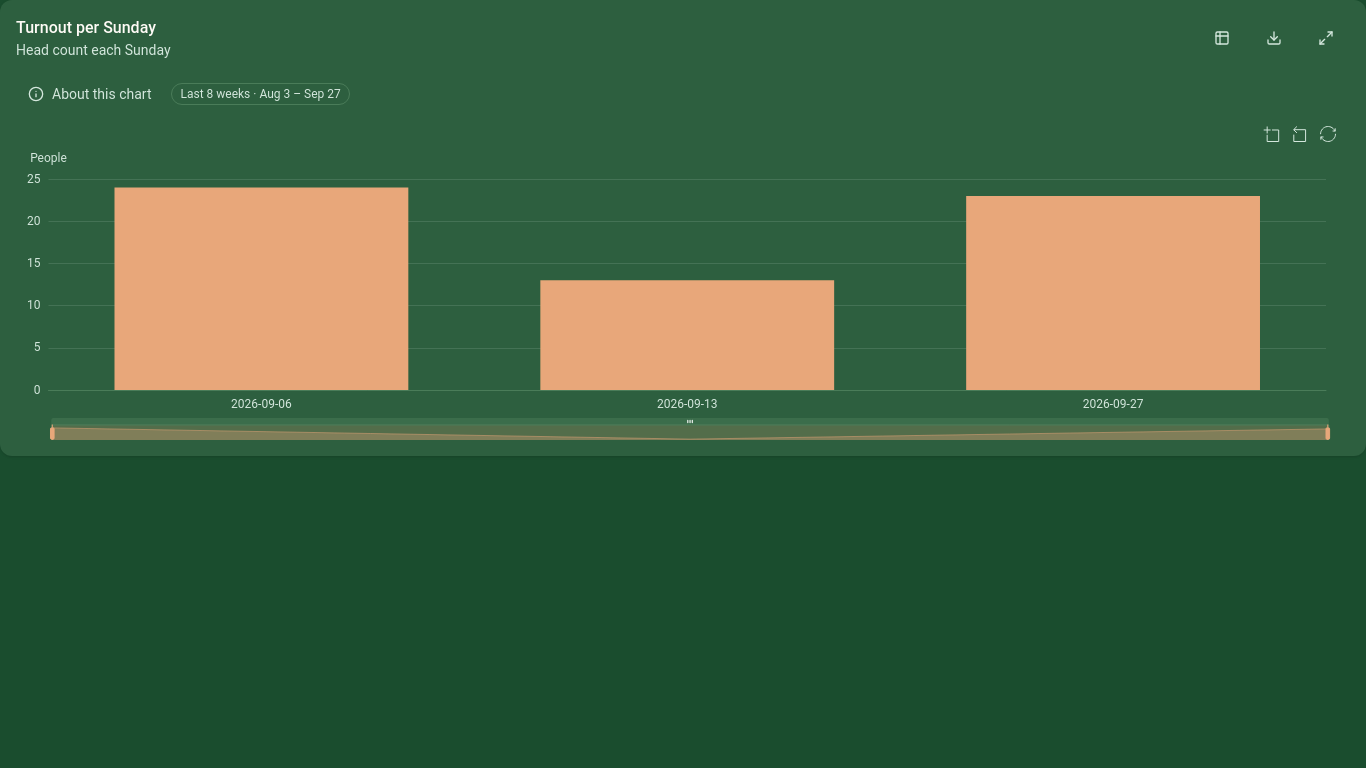
TurnoutChart full data › reuses the full list the page already loaded instead of fetching it again
The image size is (1366, 768).
expect the picture named "Turnout per Sunday" is shown: met, box left=16, top=120, right=1350, bottom=440
Click the button named "Fullscreen" at (1326,38), box left=1302, top=16, right=1350, bottom=60
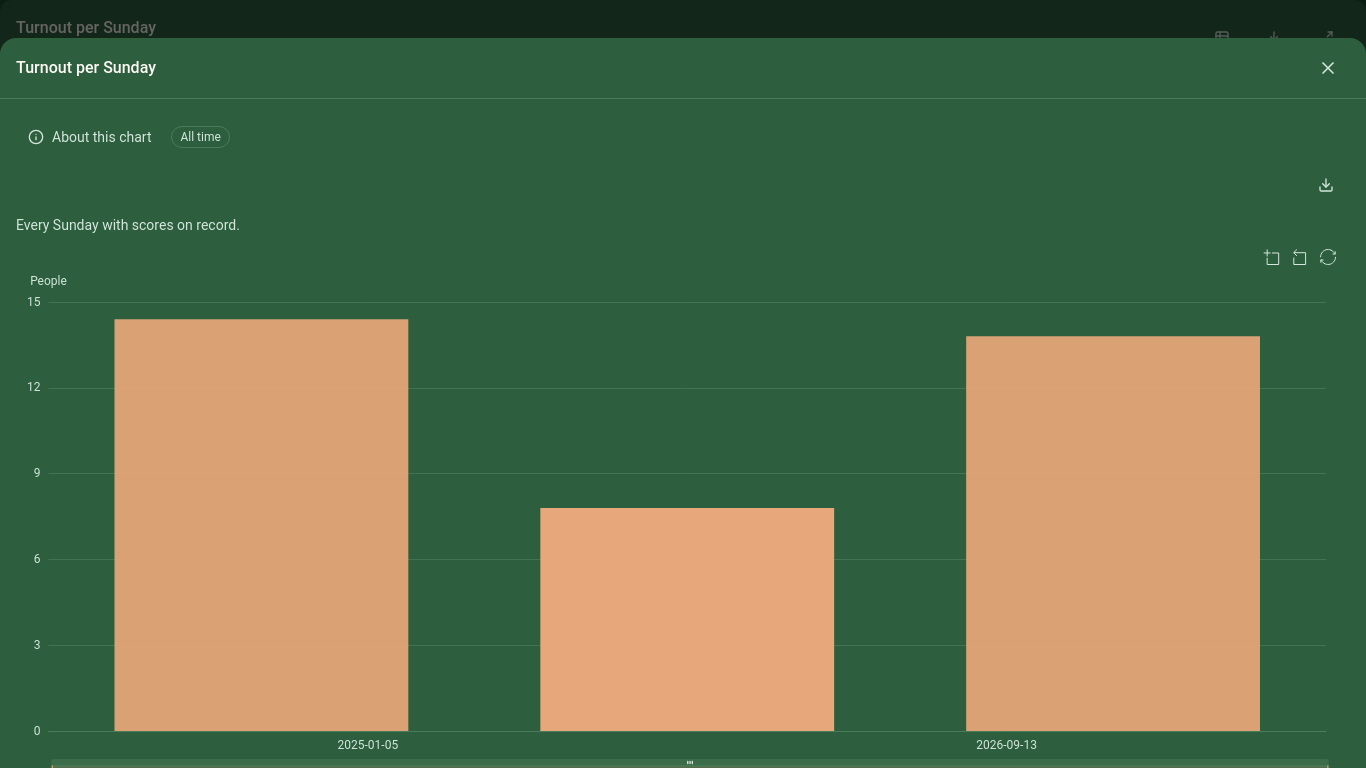
expect the text "Every Sunday with scores on record." is shown: met, box left=16, top=217, right=240, bottom=233
